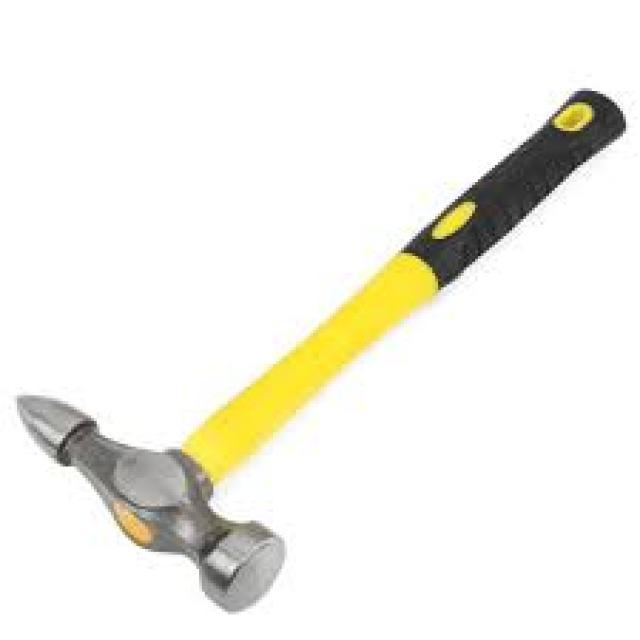Palu: (22, 90, 624, 602)
